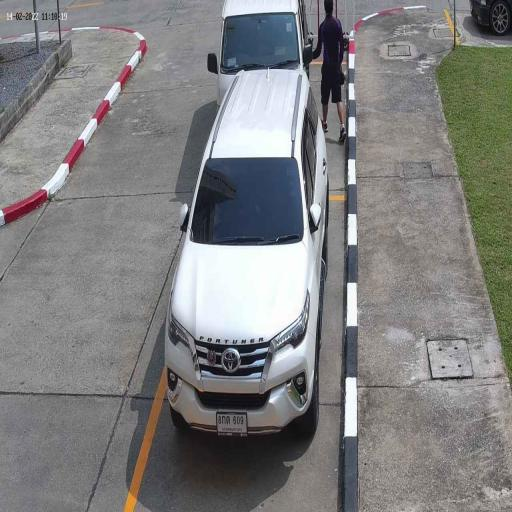car: (164, 66, 332, 444), (207, 0, 316, 113)
